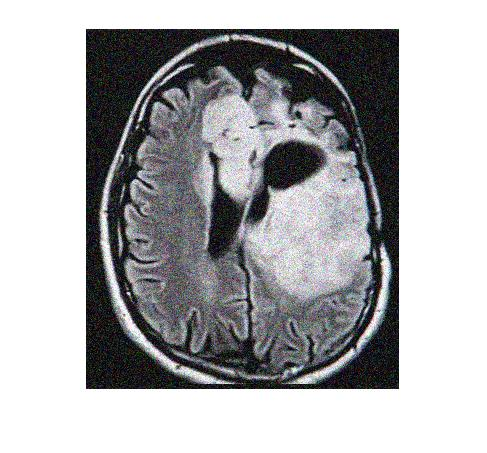Brain_Cancer: (210, 111, 280, 194)
